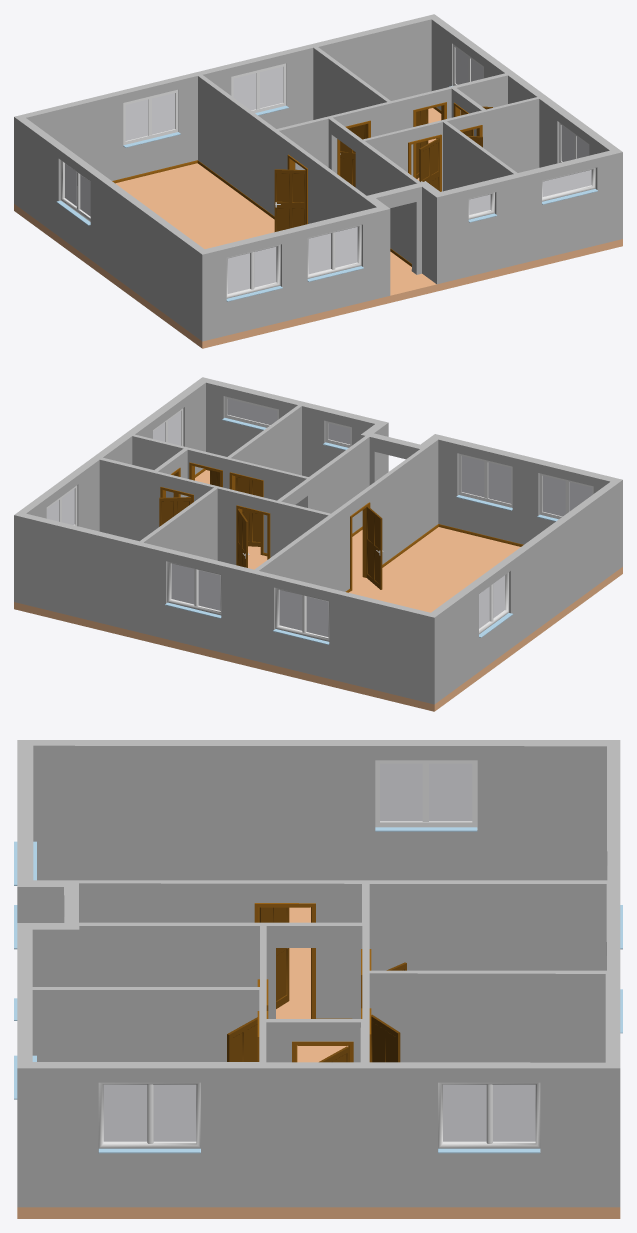
Rendered from House.fbx.
3 views of the same model, one above another, from view 1: azimuth 30°, elevation 25°; view 2: azimuth 150°, elevation 25°; view 3: azimuth 270°, elevation 25° (orthographic). The views are drawn at different scales.
Visible parts, largest first — view 1: MAUERWERK, Deckfläche_2, Deckfläche_1_2, BODEN, Glas_4, Glas_5, Glas_6, Glas_3, Glas_7, Glas_8, Würfel_26, Rahmen_4 (+7 smaller); view 2: MAUERWERK, Deckfläche_2, Deckfläche_1_2, BODEN, Glas_5, Glas_3, Glas_4, Glas_6, Glas_8, Glas_7, Würfel_26, ZARGE_6 (+6 smaller); view 3: MAUERWERK, Deckfläche_2, BODEN, Glas, Glas_7, Glas_2, Deckfläche_1_2, Rahmen_7, Rahmen_2, Rahmen, ZARGE_6.
Boxes of the visible parts, x1,y1,x2,y2 form: MAUERWERK: (14, 19, 622, 341); Deckfläche_2: (14, 14, 622, 254); Deckfläche_1_2: (115, 108, 441, 295); BODEN: (14, 204, 622, 348); Glas_4: (125, 93, 174, 140); Glas_5: (308, 227, 357, 274); Glas_6: (227, 247, 276, 293); Glas_3: (233, 66, 283, 110); Glas_7: (65, 163, 90, 216); Glas_8: (542, 170, 591, 196); Würfel_26: (274, 169, 305, 231); Rahmen_4: (123, 89, 178, 145); MAUERWERK: (14, 382, 622, 704); Deckfläche_2: (14, 377, 622, 617); Deckfläche_1_2: (195, 470, 520, 612); BODEN: (14, 567, 622, 711); Glas_5: (461, 456, 511, 503); Glas_3: (171, 563, 220, 610); Glas_4: (279, 590, 328, 637); Glas_6: (543, 475, 592, 516); Glas_8: (227, 399, 277, 424); Glas_7: (479, 575, 504, 628); Würfel_26: (366, 506, 382, 589); ZARGE_6: (350, 502, 370, 590); MAUERWERK: (17, 745, 620, 1207); Deckfläche_2: (17, 740, 620, 1068); BODEN: (17, 1207, 620, 1218); Glas: (103, 1084, 196, 1141); Glas_7: (380, 763, 472, 821); Glas_2: (443, 1084, 535, 1141); Deckfläche_1_2: (276, 907, 348, 1062); Rahmen_7: (375, 760, 477, 827); Rahmen_2: (438, 1082, 540, 1148); Rahmen: (98, 1082, 200, 1148); ZARGE_6: (254, 903, 315, 1018).
Bounding box in the file's own units: 483 × 102 × 375.
